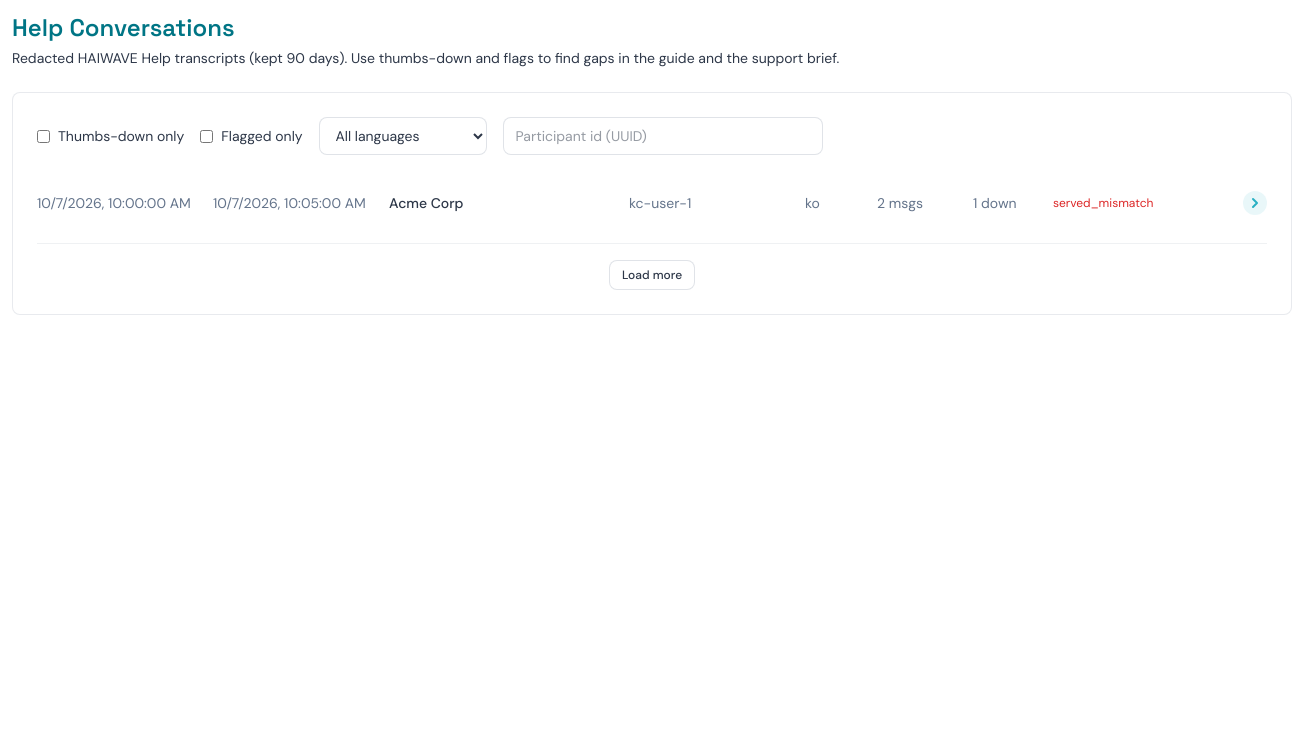
it: AdminHelpPage › a second click collapses the row
Click the button with aria-label "Conversation 0b8a5a52-58b6-4a8e-9a39-9a1d4c7f1f10": (652, 203) [37,179,1267,227]
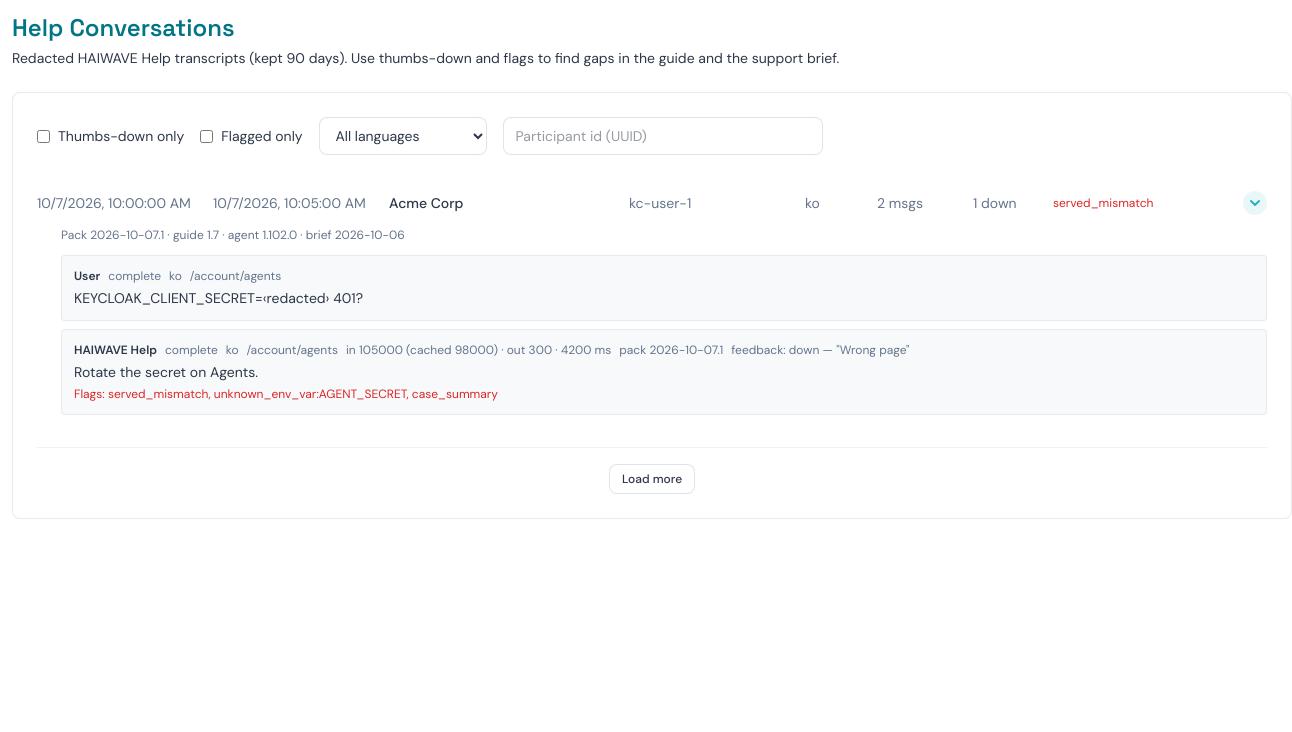
Result: the text "Rotate the secret on Agents." is shown at [74,363,258,381]
Click the button with aria-label "Conversation 0b8a5a52-58b6-4a8e-9a39-9a1d4c7f1f10": (652, 203) [37,179,1267,227]
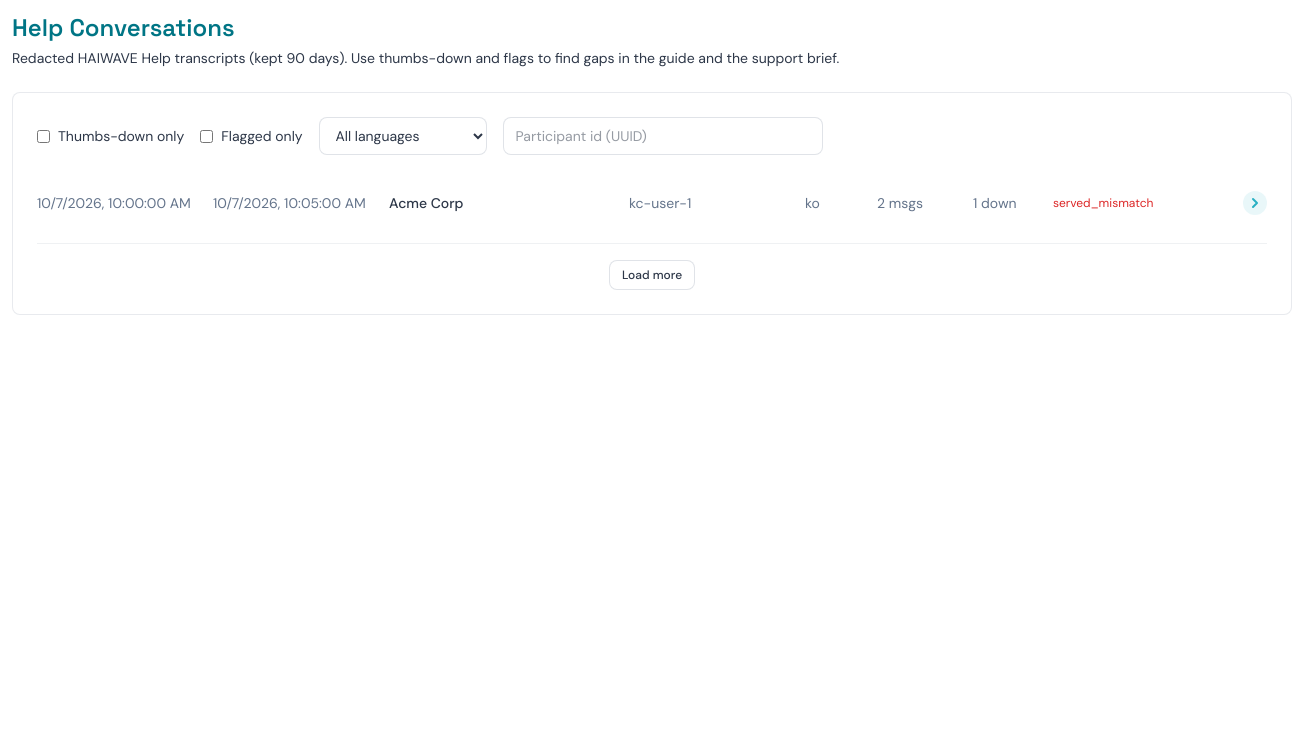
Result: the text "Rotate the secret on Agents." is gone
